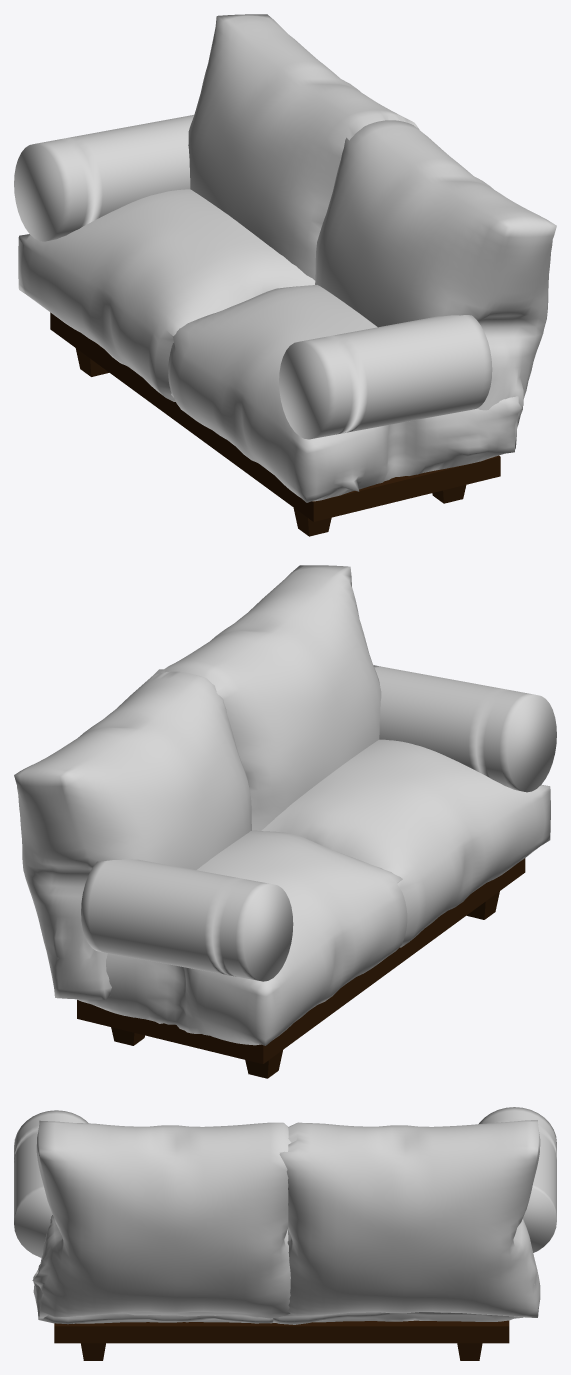
File: ExportedBlenderFBXFile.fbx
3 renders of one model, top to bottom at view 1: azimuth 30°, elevation 25°; view 2: azimuth 150°, elevation 25°; view 3: azimuth 270°, elevation 25°, orthographic. The views are drawn at different scales.
Visible parts, largest first — view 1: Cube_006; view 2: Cube_006; view 3: Cube_006.
Boxes of the visible parts, bbox=[...] form: Cube_006: bbox=[14, 14, 556, 536]; Cube_006: bbox=[14, 565, 556, 1078]; Cube_006: bbox=[14, 1107, 556, 1360].
Size of the model in its own units: 3.15 by 3.05 by 6.06.
